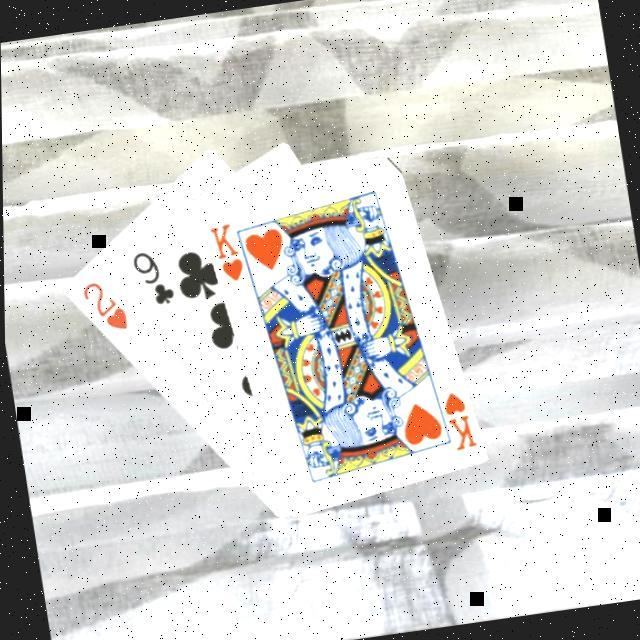2H: (77, 272, 133, 336)
9C: (128, 242, 180, 310)
KH: (206, 216, 250, 284), (438, 383, 480, 453)
